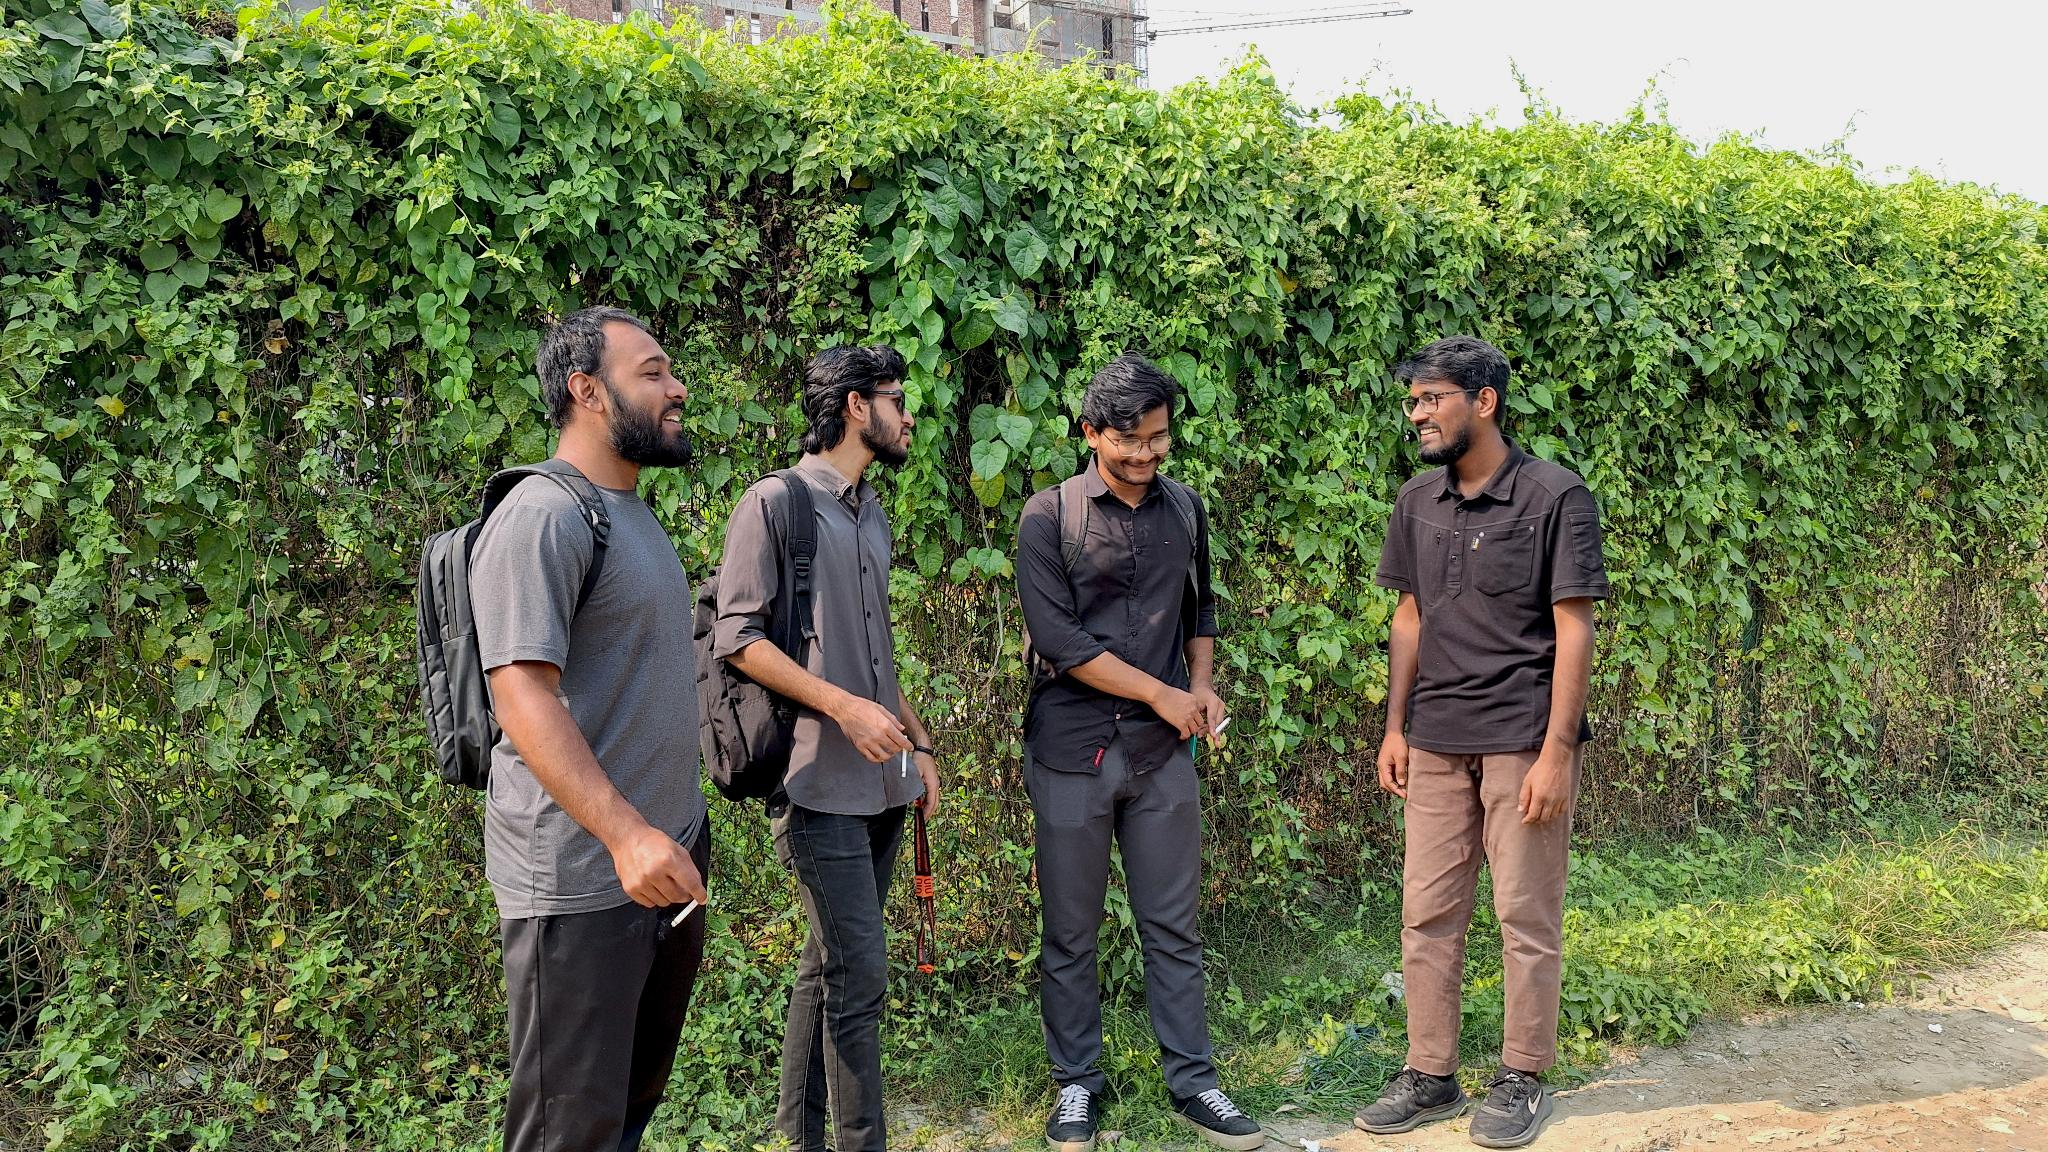cigarette: (670, 899, 700, 930), (900, 734, 910, 779), (1214, 716, 1232, 736)
nonSmoker: (1355, 336, 1609, 1148)
smoker: (416, 307, 712, 1152), (693, 345, 940, 1152), (1016, 356, 1265, 1152)
